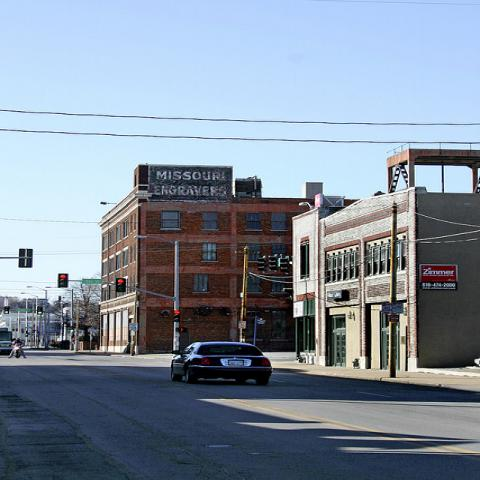bus: (0, 328, 12, 353)
car: (170, 342, 271, 385)
motorcycle: (10, 342, 24, 359)
